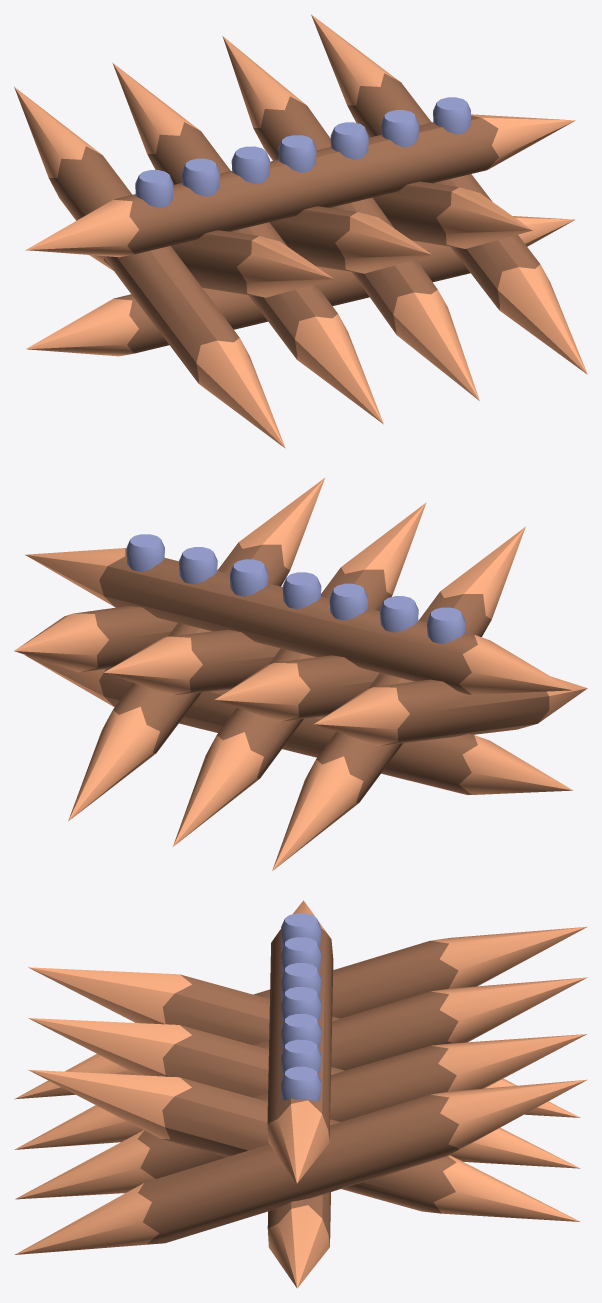
Rendered from CS_Barricade.fbx.
3 views of the same model, one above another, from view 1: azimuth 30°, elevation 25°; view 2: azimuth 150°, elevation 25°; view 3: azimuth 270°, elevation 25° (orthographic). The views are drawn at different scales.
Visible parts, largest first — view 1: Barricade; view 2: Barricade; view 3: Barricade.
Part boxes in pixels (x1=…): Barricade: x1=14, y1=14, x2=587, y2=448; Barricade: x1=14, y1=478, x2=587, y2=870; Barricade: x1=14, y1=900, x2=587, y2=1288.
Bounding box in the file's own units: 313 × 94.04 × 269.
